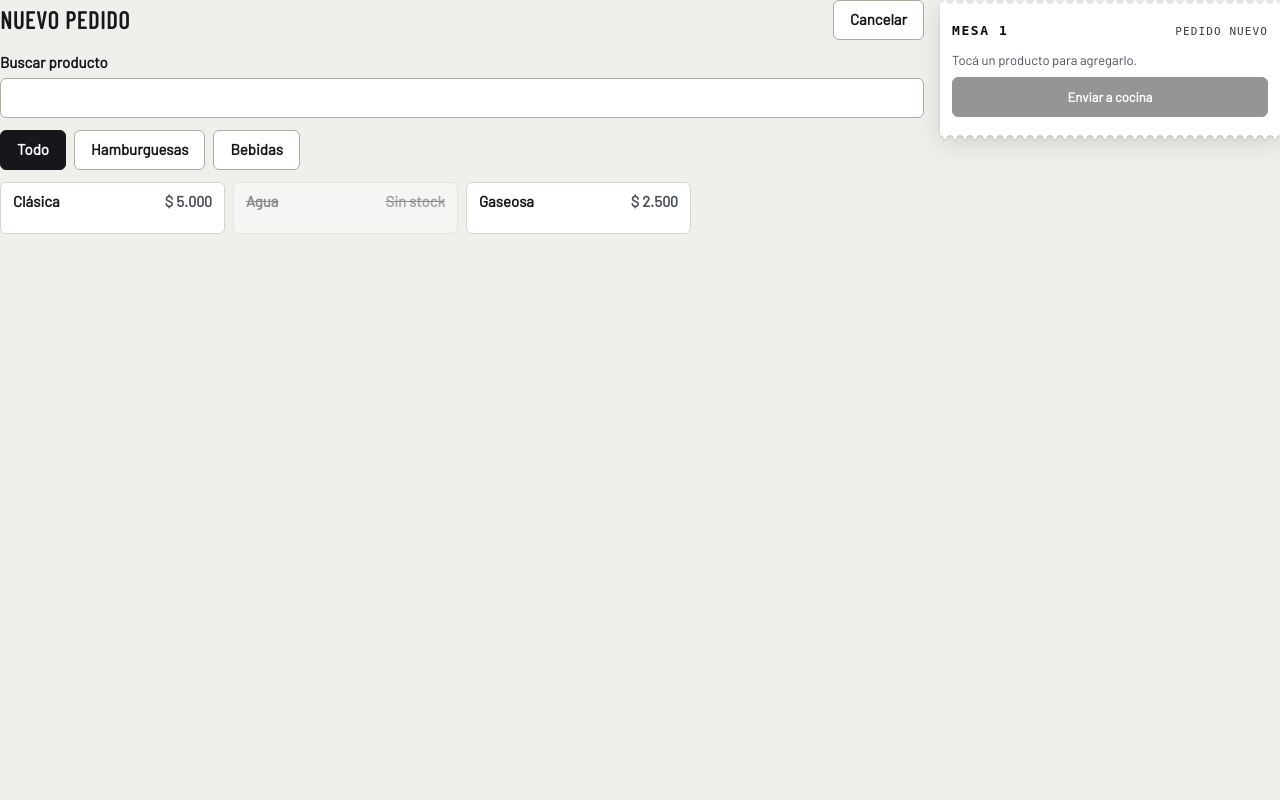
Scenario: un producto con un grupo obligatorio sin elegir no habilita "Agregar"
What coordinates should you click on to do the following:
click the button "Clásica $ 5.000"
I would click on:
 (112, 208)
Its box is x1=0 y1=182 x2=225 y2=234.
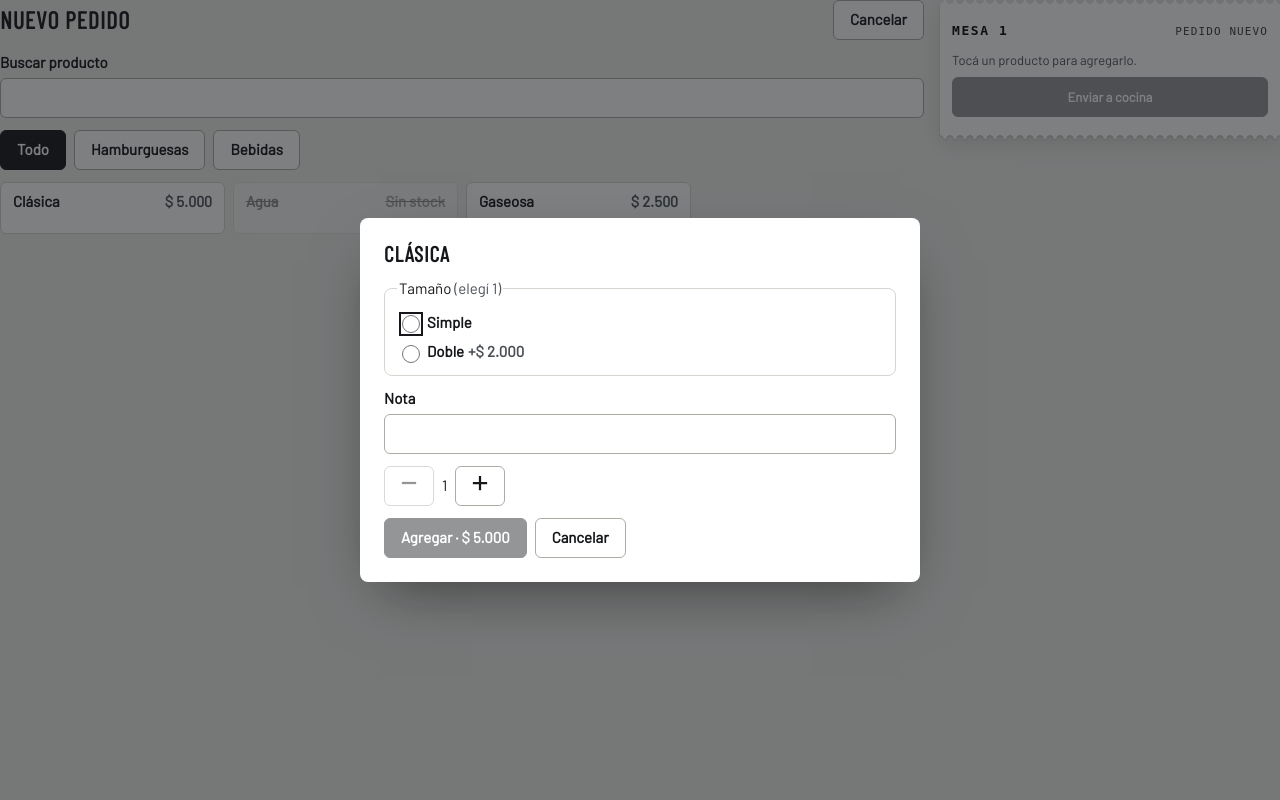
Now the button "Agregar · $ 5.000" is disabled, box x1=384 y1=518 x2=527 y2=558
What coordinates should you click on to do the following:
click the radio button labelled "Doble +$ 2.000"
I would click on:
 (411, 354)
Its box is x1=402 y1=345 x2=420 y2=363.
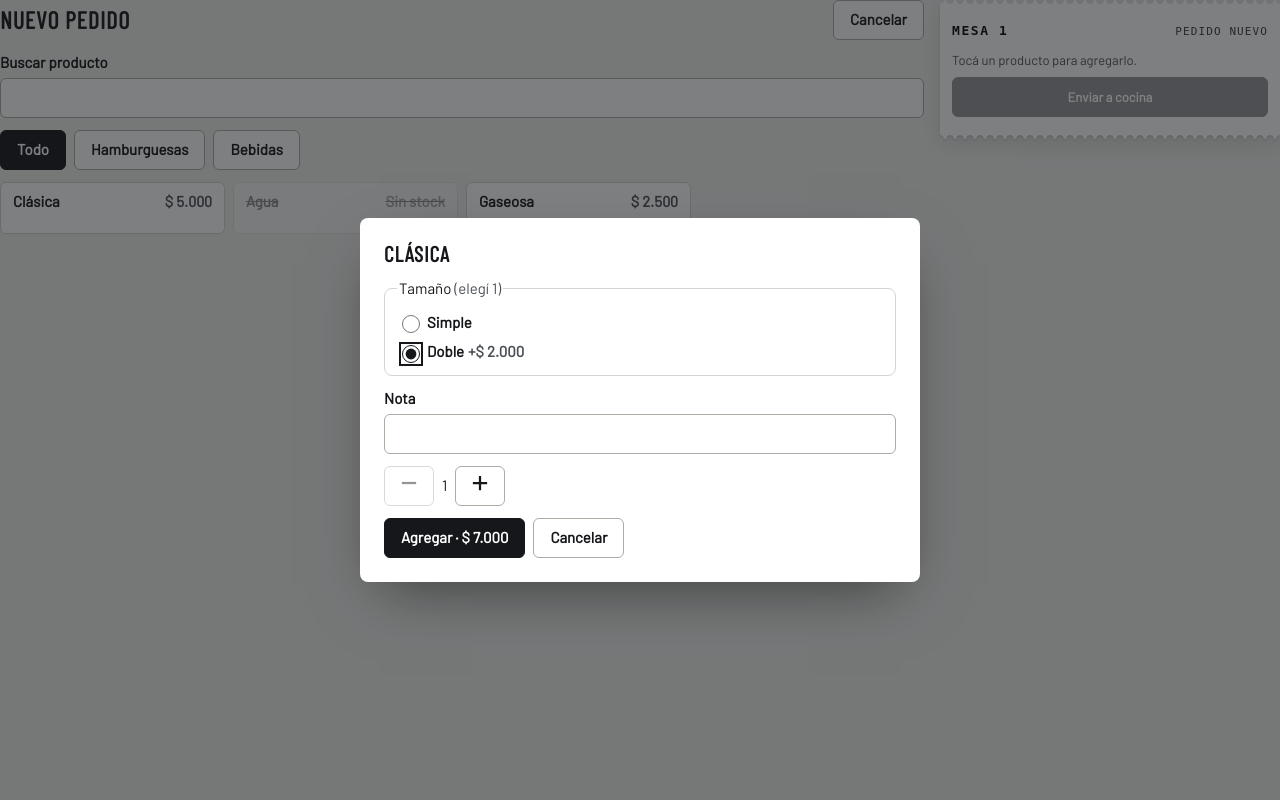
Now the button "Agregar · $ 7.000" is enabled, box x1=384 y1=518 x2=525 y2=558
